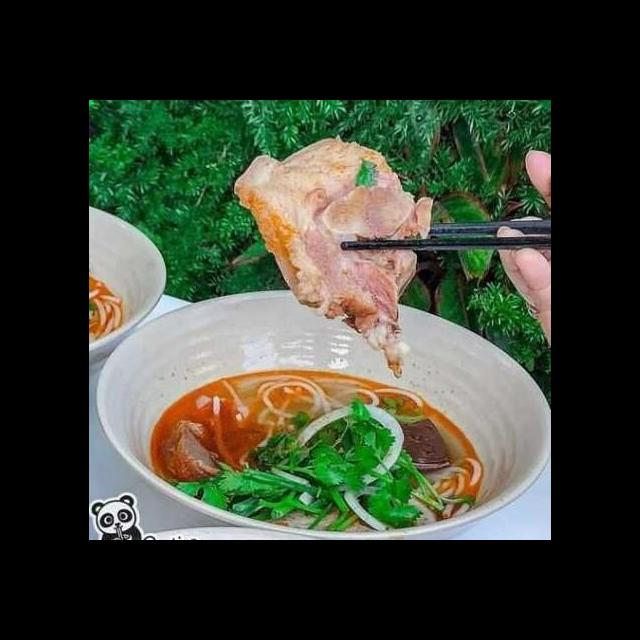bun: (208, 370, 428, 425), (411, 450, 489, 525), (90, 277, 128, 345)
bun bo: (121, 131, 525, 519)
thit bo: (228, 130, 440, 383)
